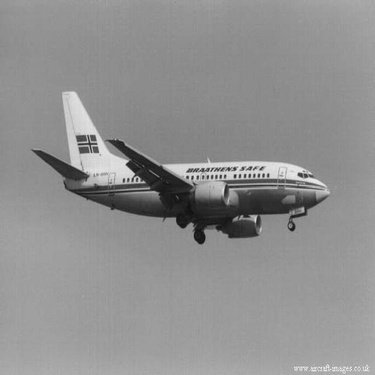airplane: (21, 82, 342, 252)
